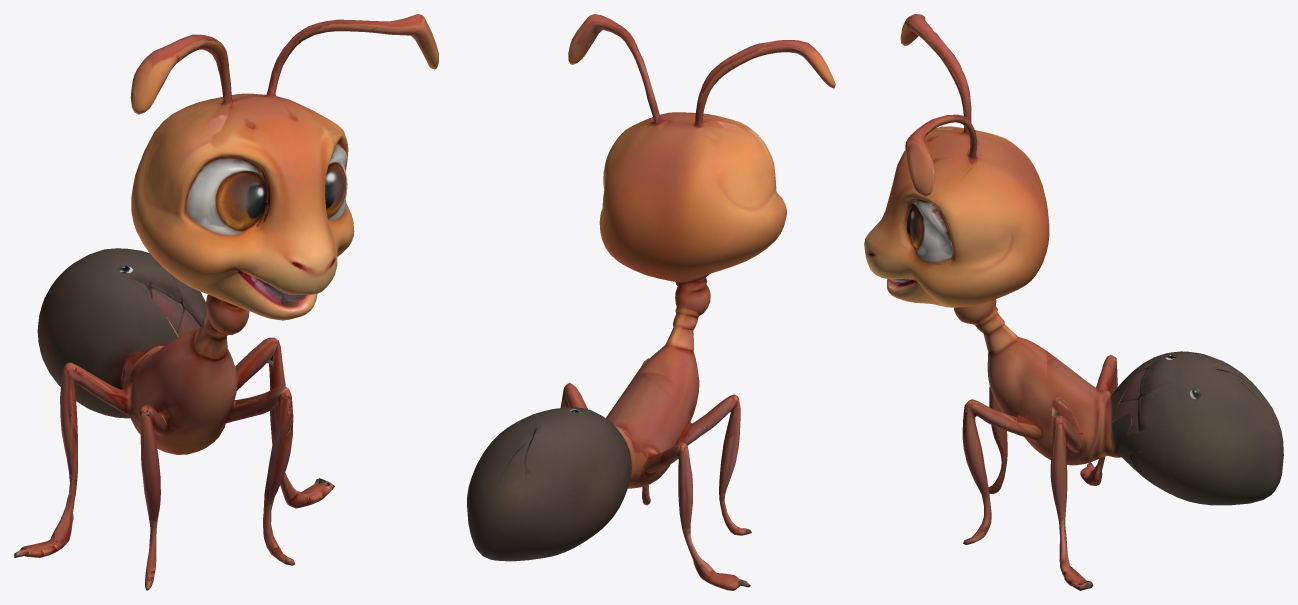
Rendered from ant.glb.
3 renders of one model, left to right at view 1: azimuth 30°, elevation 25°; view 2: azimuth 150°, elevation 25°; view 3: azimuth 270°, elevation 25°, orthographic. The views are drawn at different scales.
Bounding box in the file's own units: 37968 × 65624 × 53103.
Materials: 1 (1 with a texture image).
